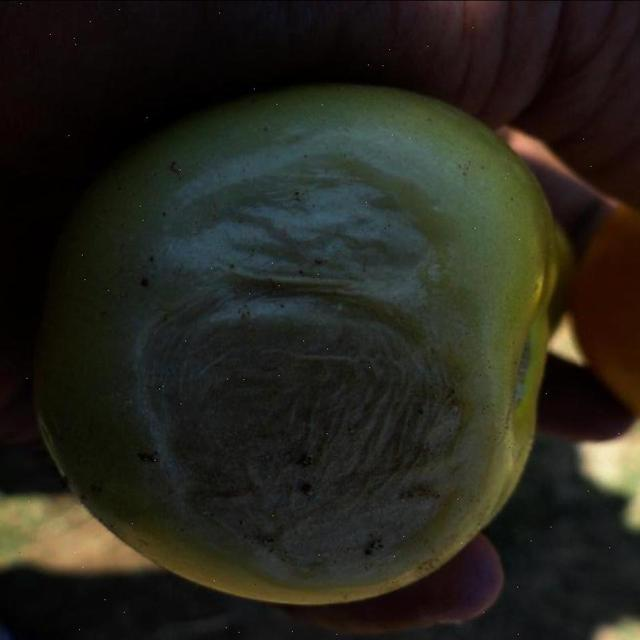Sunscald Fruit: (67, 110, 330, 384)
